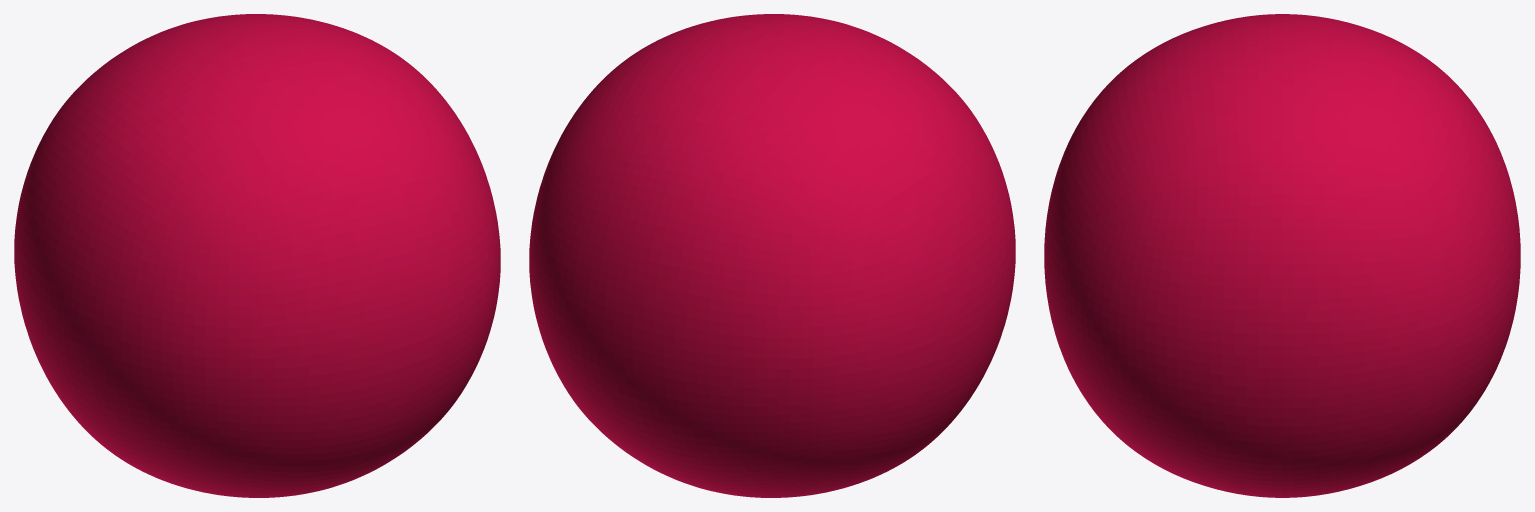
Rendered from pinkball.obj.
3 renders of one model, left to right at view 1: azimuth 30°, elevation 25°; view 2: azimuth 150°, elevation 25°; view 3: azimuth 270°, elevation 25°, orthographic.
Parts seen in each view (by area): view 1: Cube; view 2: Cube; view 3: Cube.
Boxes of the visible parts, bbox=[...] form: Cube: bbox=[14, 14, 500, 497]; Cube: bbox=[529, 14, 1015, 497]; Cube: bbox=[1044, 14, 1520, 497].
Bounding box in the file's own units: 1.68 × 1.68 × 1.68.
